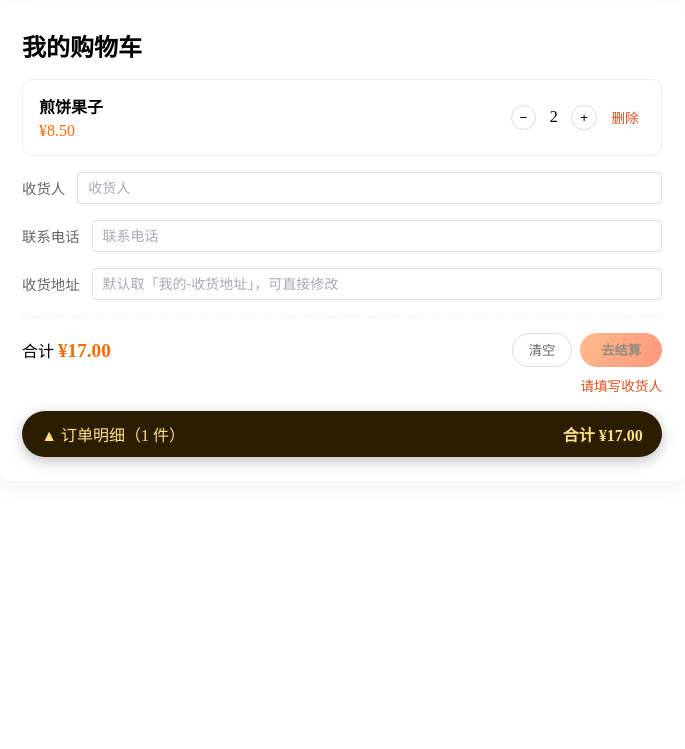
Test: 购物车页 › 收货人、联系电话或地址为空时禁止提交
Click the element with class "cart-drawer-bar" at (342, 434), box [22,411,662,457]
(page scrolled)
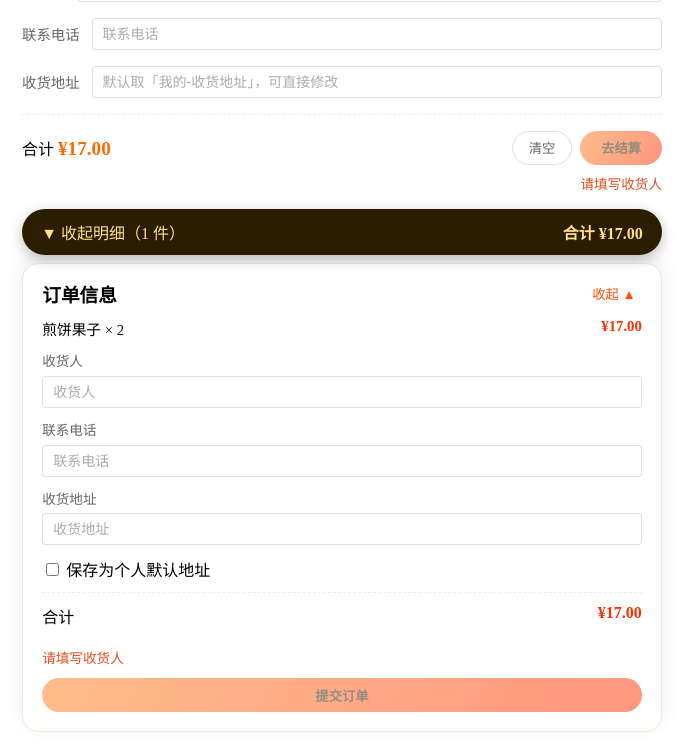
Now the button with class "sheet-checkout" is disabled, box [42,678,642,712]
